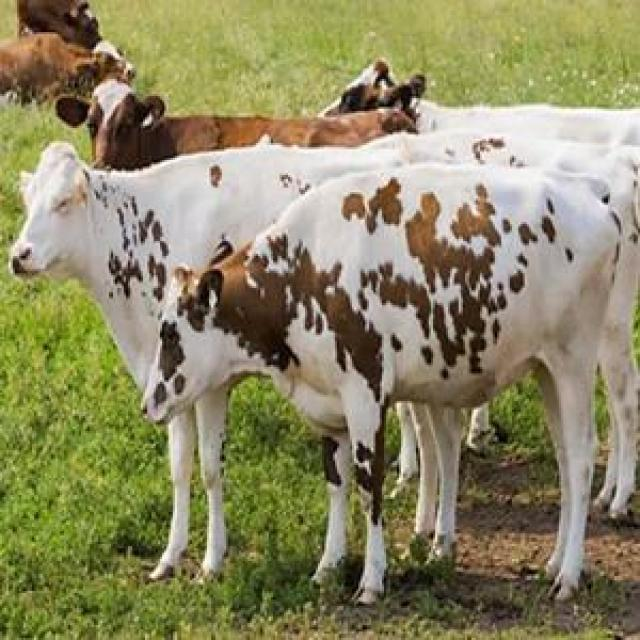cow: (146, 165, 620, 600), (10, 142, 369, 388), (150, 390, 227, 579), (410, 404, 461, 558)
